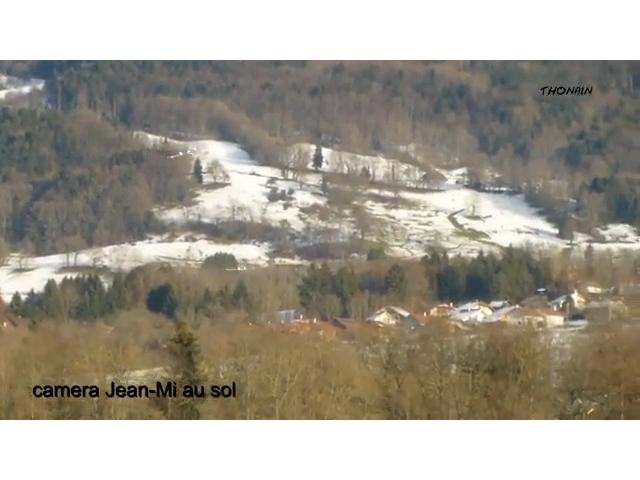Anti-Drone: (160, 144, 208, 162)
